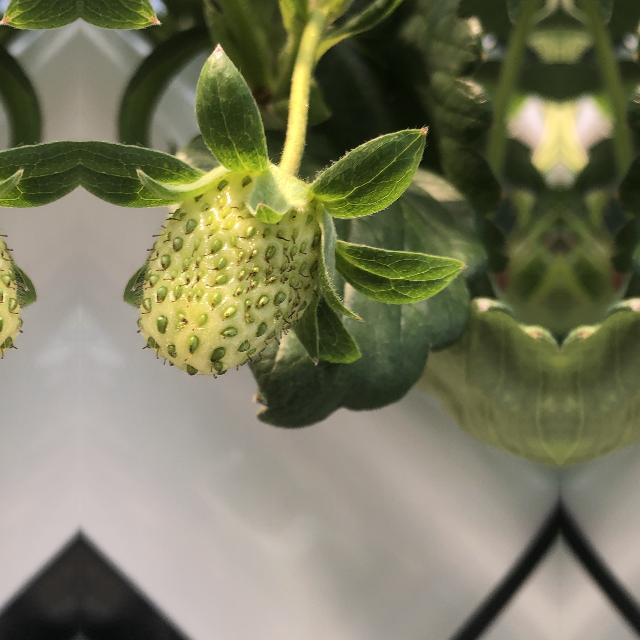Health_25: (130, 166, 328, 380)
